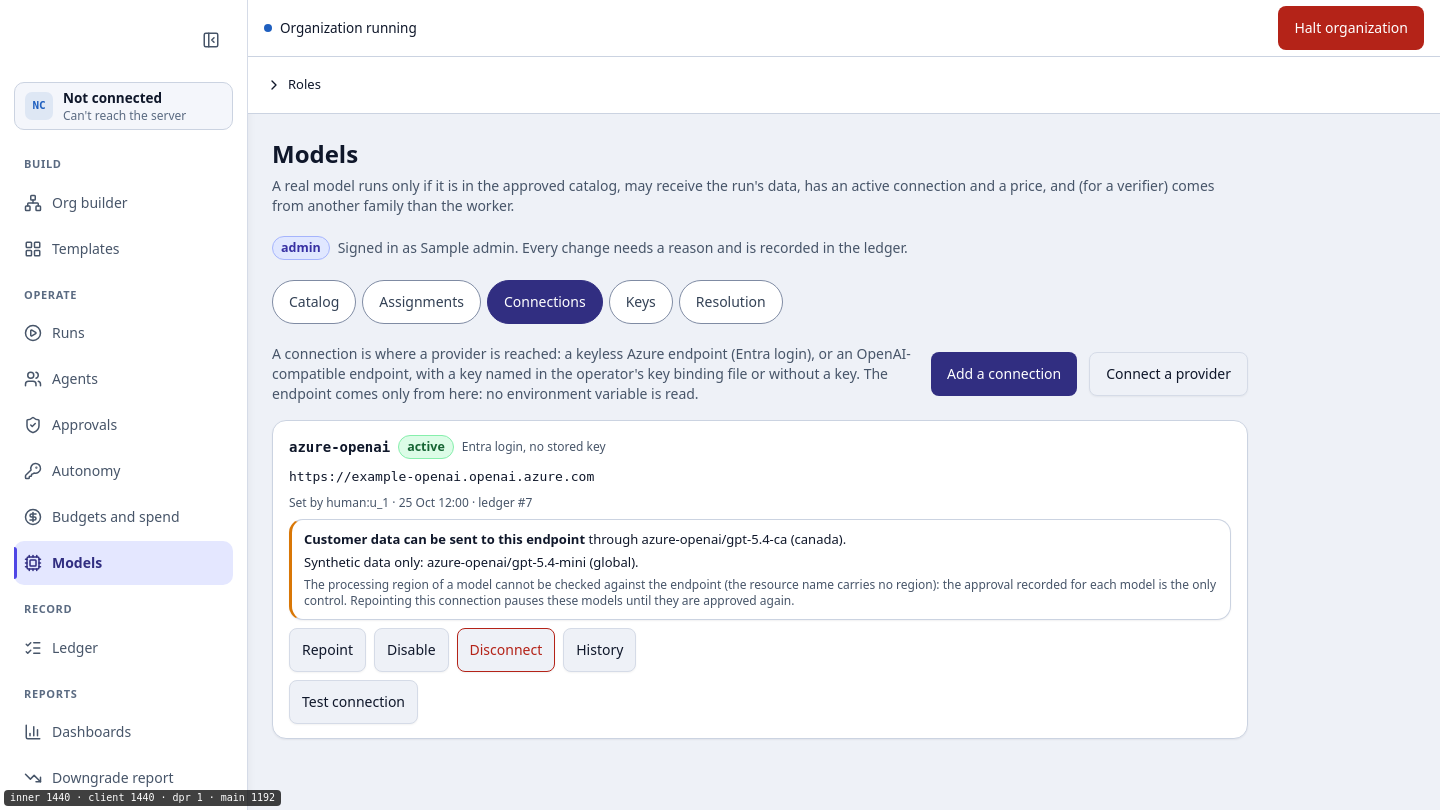
Scenario: connection History drawer › empty: says there is nothing yet
Click the button with aria-label "History azure-openai" at (600,650), box [563,628,636,672]
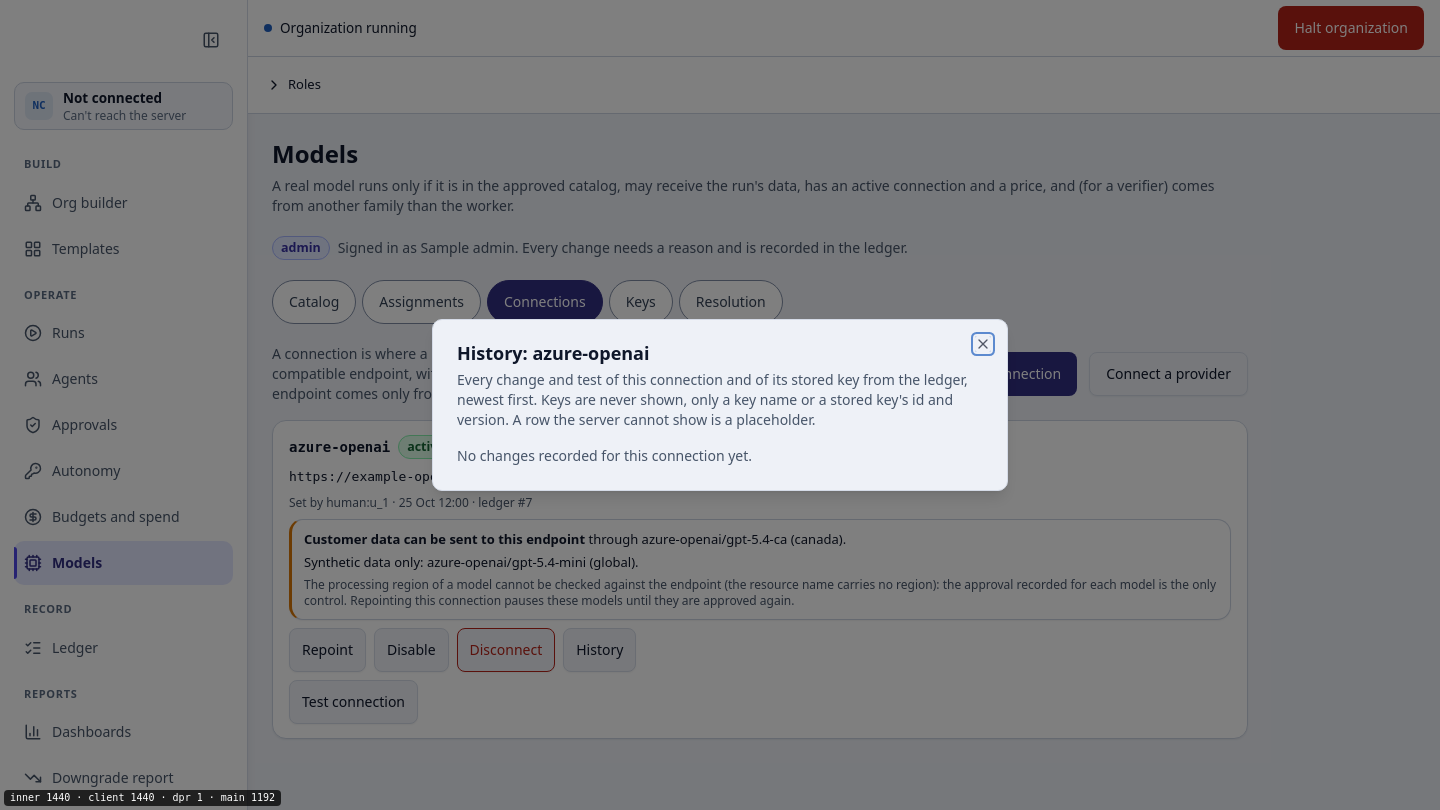
Now the text "No changes recorded for this connection yet." is shown, box [457,446,752,465]
